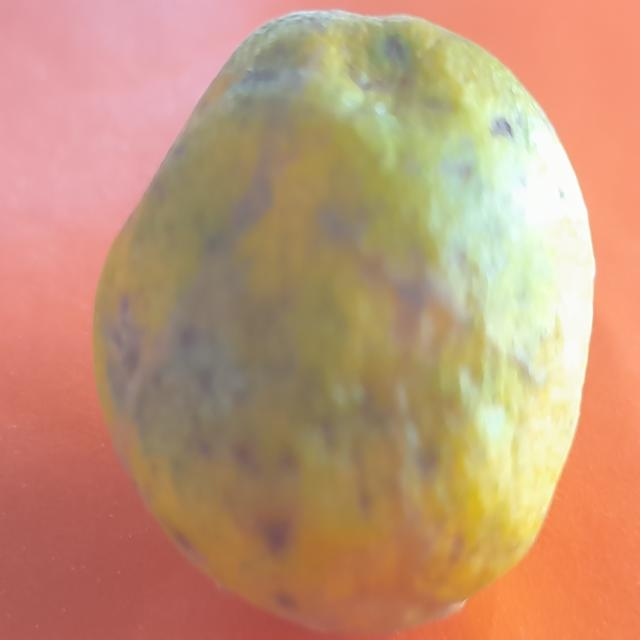black spot: (102, 3, 593, 605)
